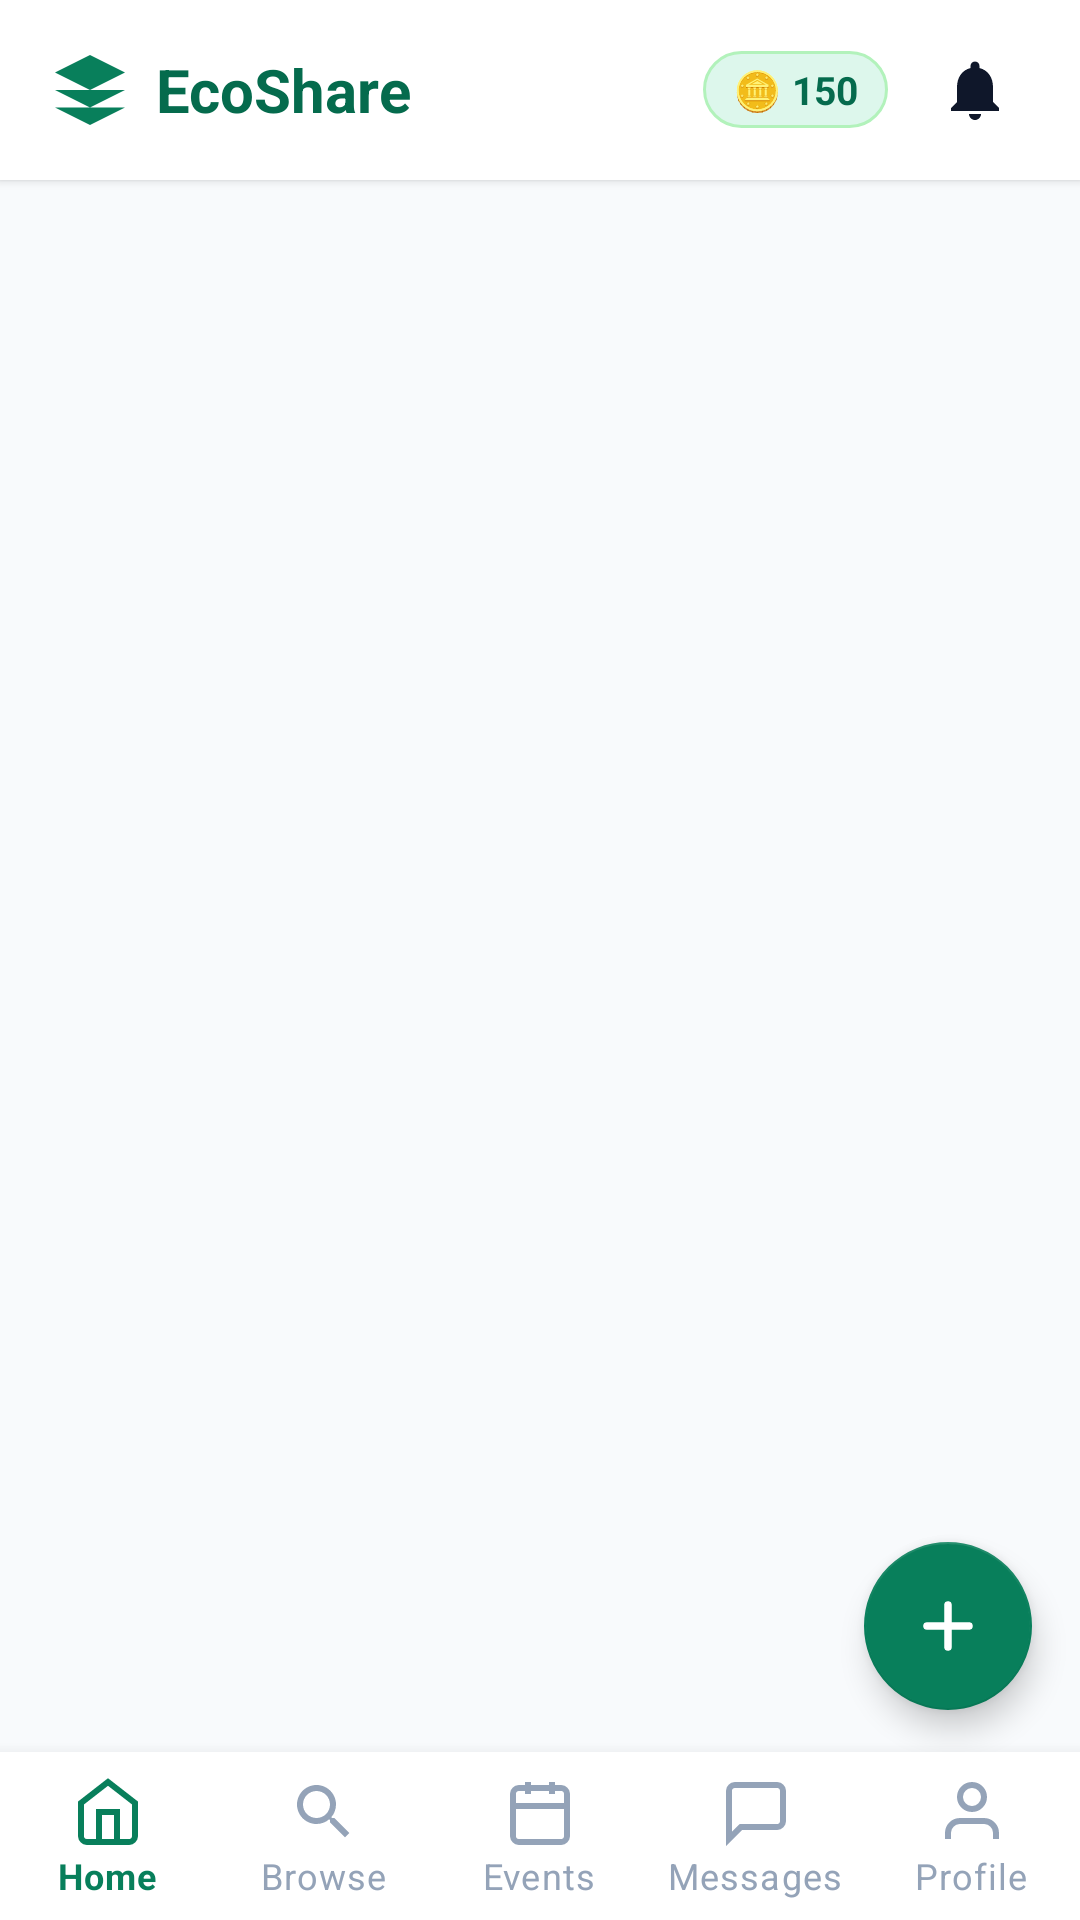

Where icons sit on this 1080×1920 app screen, as [x1=x1, y1=y1, x2=x2, y2=y2]:
Notifications: [x1=951, y1=61, x2=999, y2=120]
